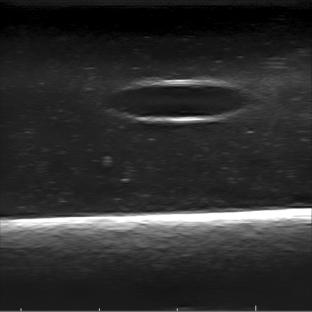vessel: (105, 78, 249, 125)
